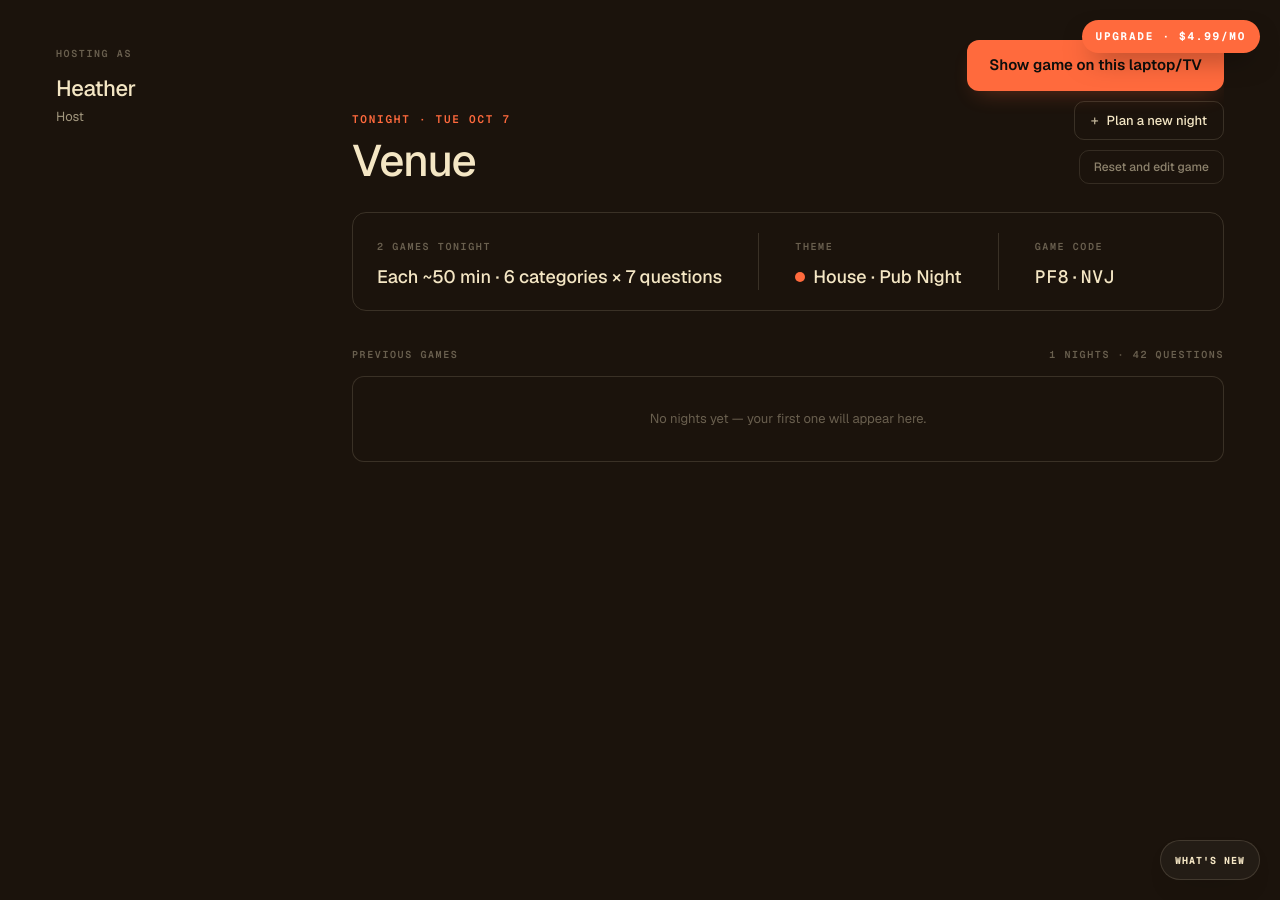
Test: reset success text on a night with a doubled slot › says the popup's slot count (6), not the database's row count (7)
Click the button with test id "host-reset-game-btn" at (1151, 167), box [1079, 150, 1224, 184]
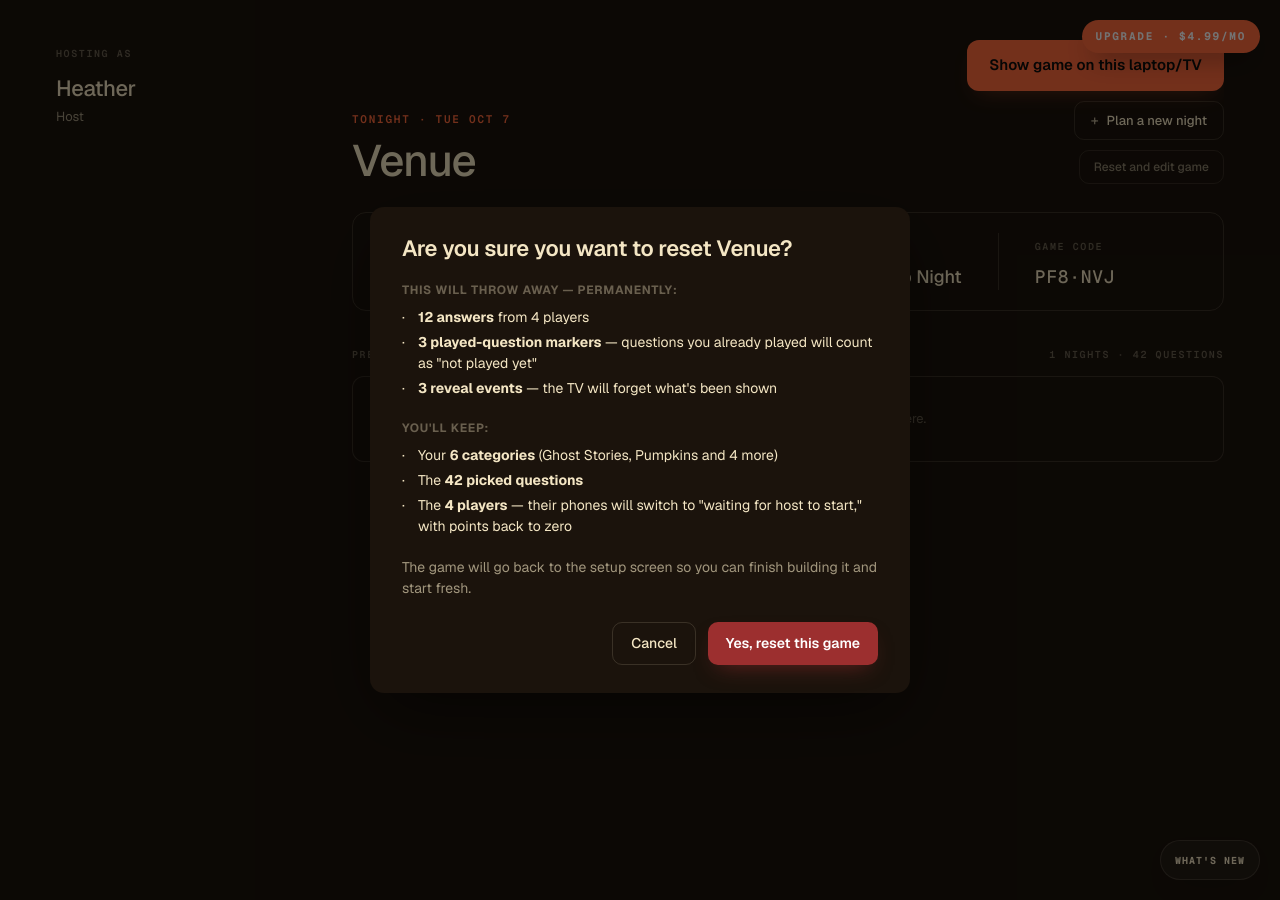
Expected: the dialog named "Reset game confirmation" shows "6 categories"
Click the button "Yes, reset this game" at (793, 644), box [708, 622, 878, 665]
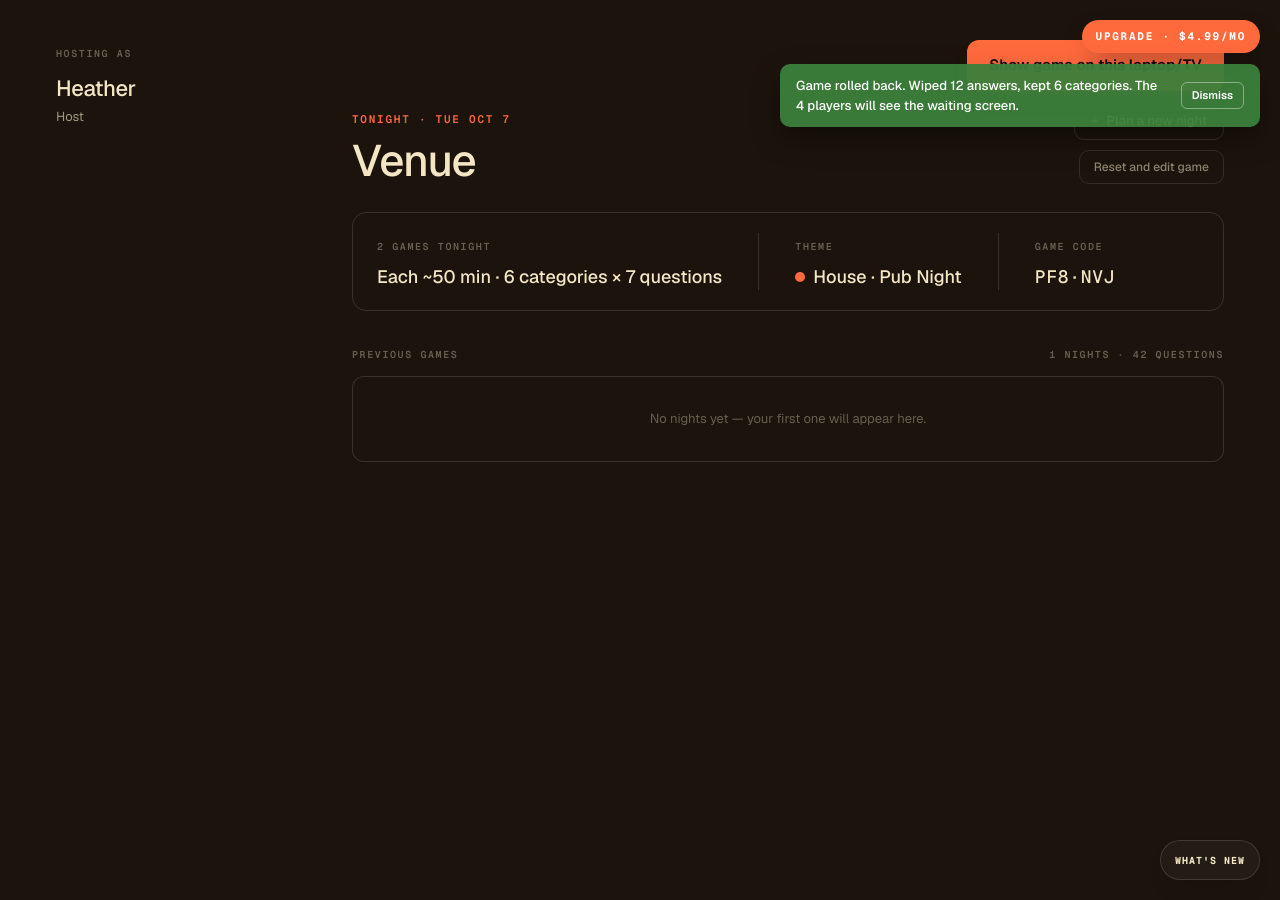
Expected: the text "Game rolled back" shows "kept 6 categories", [796, 77, 1157, 114]
